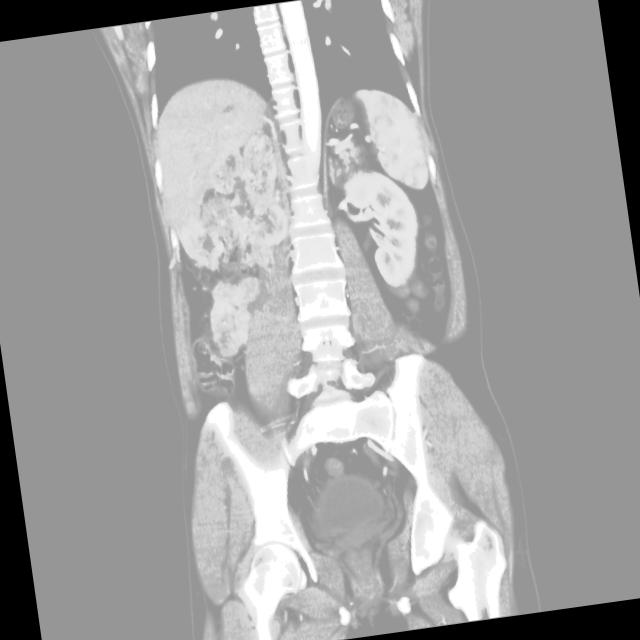TUMOR: (114, 151, 517, 507)
